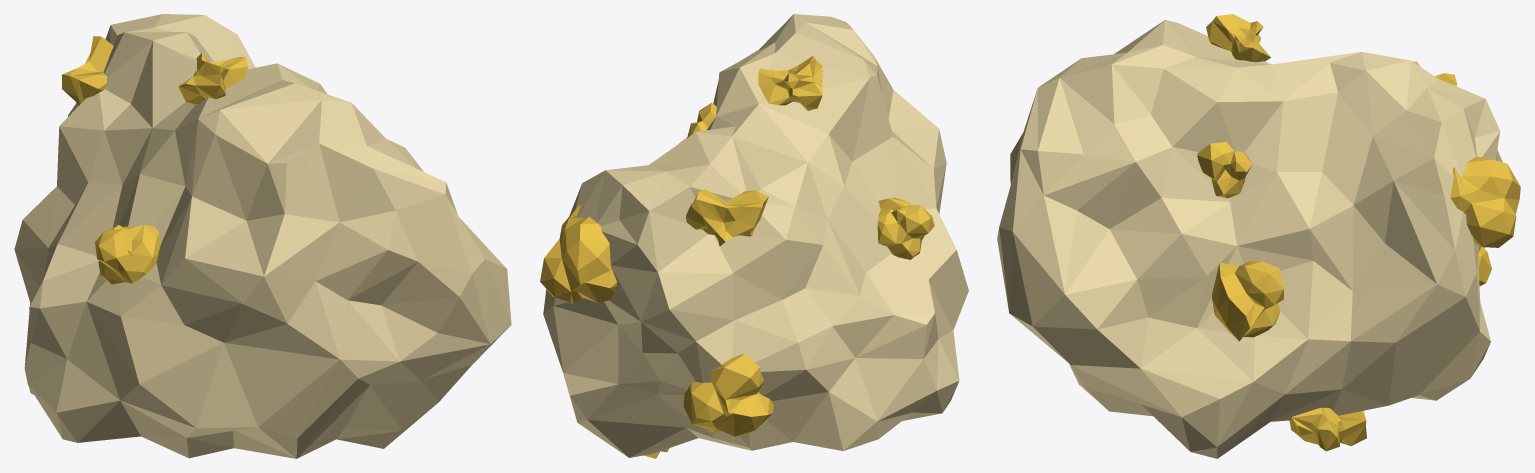
Rendered from MetalOre (5).fbx.
3 views of the same model, side by side, from view 1: azimuth 30°, elevation 25°; view 2: azimuth 150°, elevation 25°; view 3: azimuth 270°, elevation 25° (orthographic). The views are drawn at different scales.
Parts seen in each view (by area): view 1: Asteroid360; view 2: Asteroid360; view 3: Asteroid360.
Boxes of the visible parts, x1,y1,x2,y2 form: Asteroid360: [14, 14, 511, 458]; Asteroid360: [540, 14, 968, 458]; Asteroid360: [997, 14, 1520, 458].
Bounding box in the file's own units: 344 × 345 × 429.
